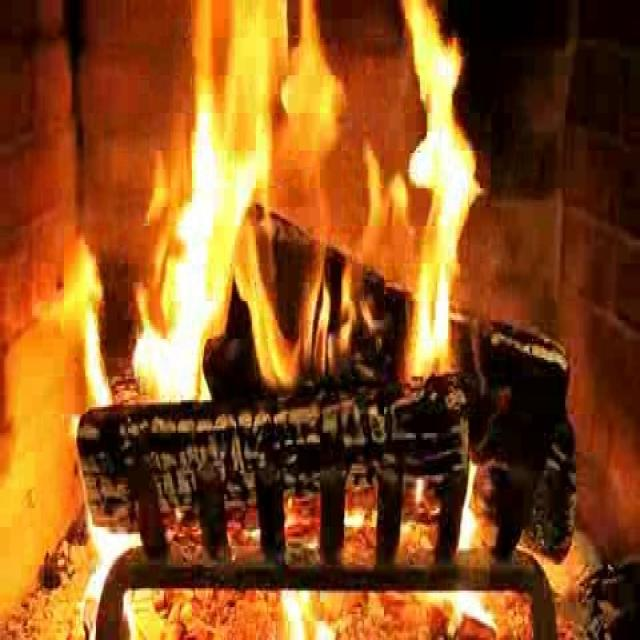fire: (160, 14, 468, 418)
